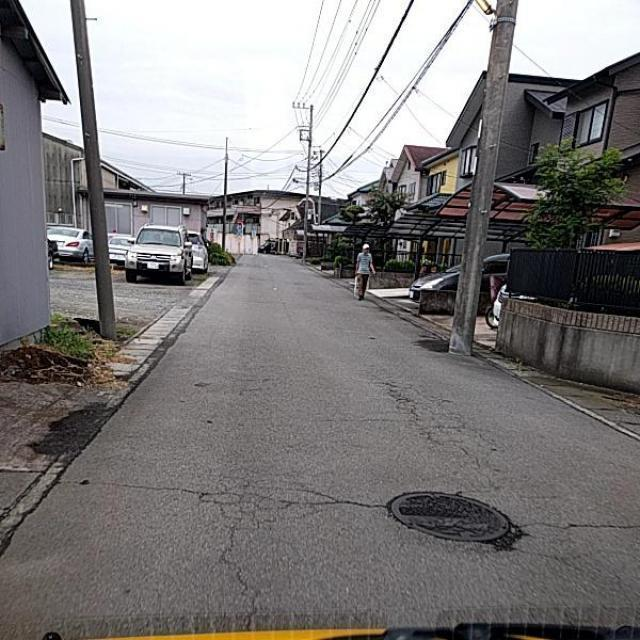Lubang: (387, 488, 529, 546)
